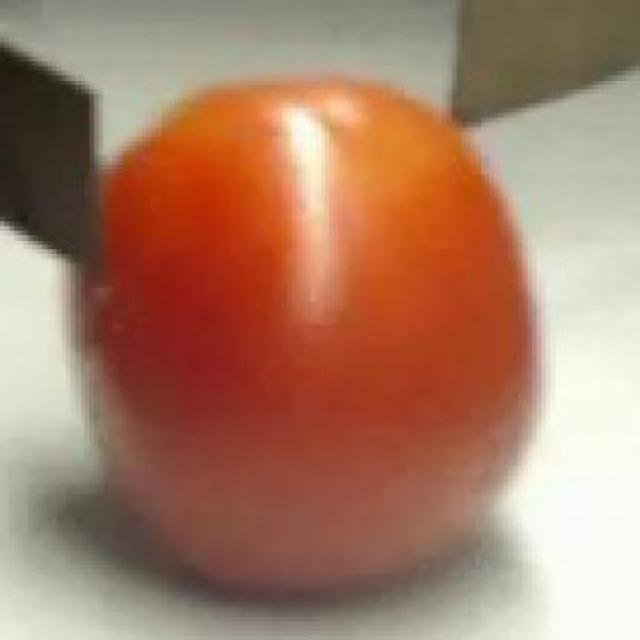tomato: (81, 72, 552, 595)
